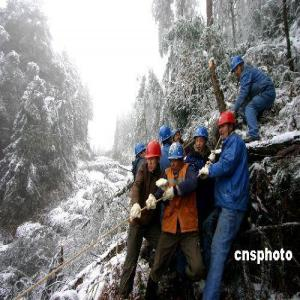blue: (168, 144, 186, 173), (194, 126, 210, 152), (231, 56, 246, 79), (159, 125, 172, 146), (135, 142, 147, 161), (172, 127, 182, 144)
red: (217, 113, 237, 141), (147, 142, 163, 174)
